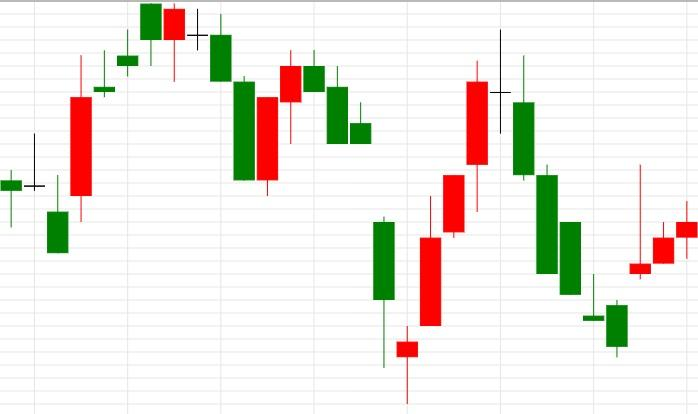evening_star_fall: (396, 29, 536, 403)
three_white_soldiers_rise: (303, 51, 466, 404)
